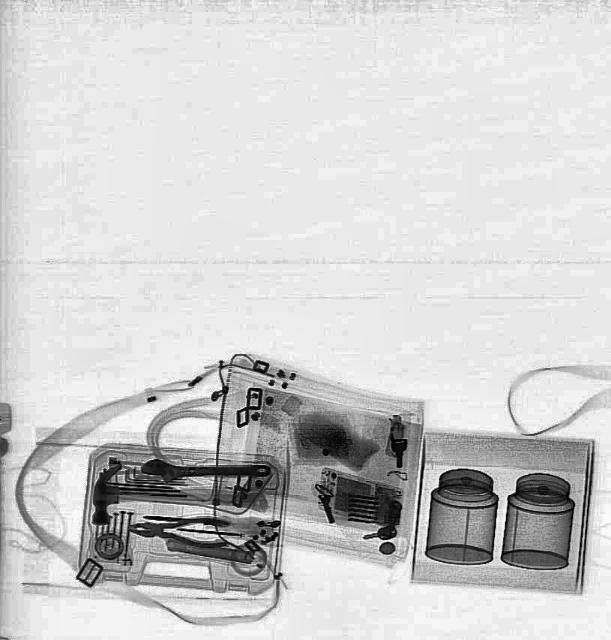Pliers: (127, 510, 229, 550)
Wrench: (142, 458, 270, 482)
